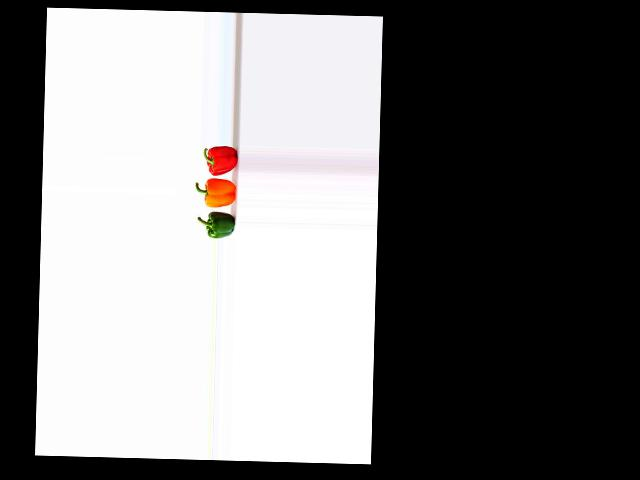bell_pepper: (196, 143, 237, 176)
